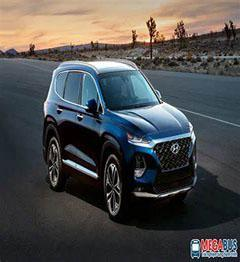car: (36, 53, 222, 233)
